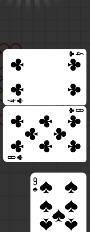4C: (67, 51, 84, 58)
9C: (31, 177, 38, 194)
